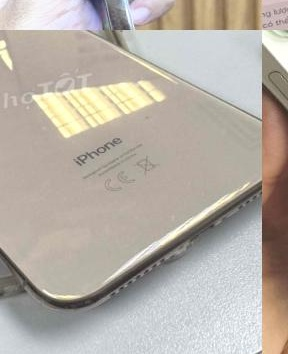scratch: (96, 0, 148, 30), (175, 169, 202, 194), (158, 205, 185, 229), (193, 187, 212, 202)
